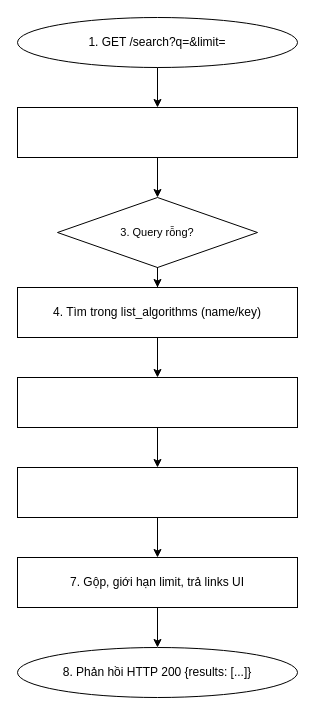
This 315x715 diagram has some shape labels left out. Each missing label, with the centre of its shape:
"2. search_dashboard(q, limit)" belongs at (157,132).
"5. Tìm list_recent_results (preview, best_algorithm)" belongs at (157,402).
"6. Tìm RAG conversations + document intelligence docs" belongs at (157,492).
